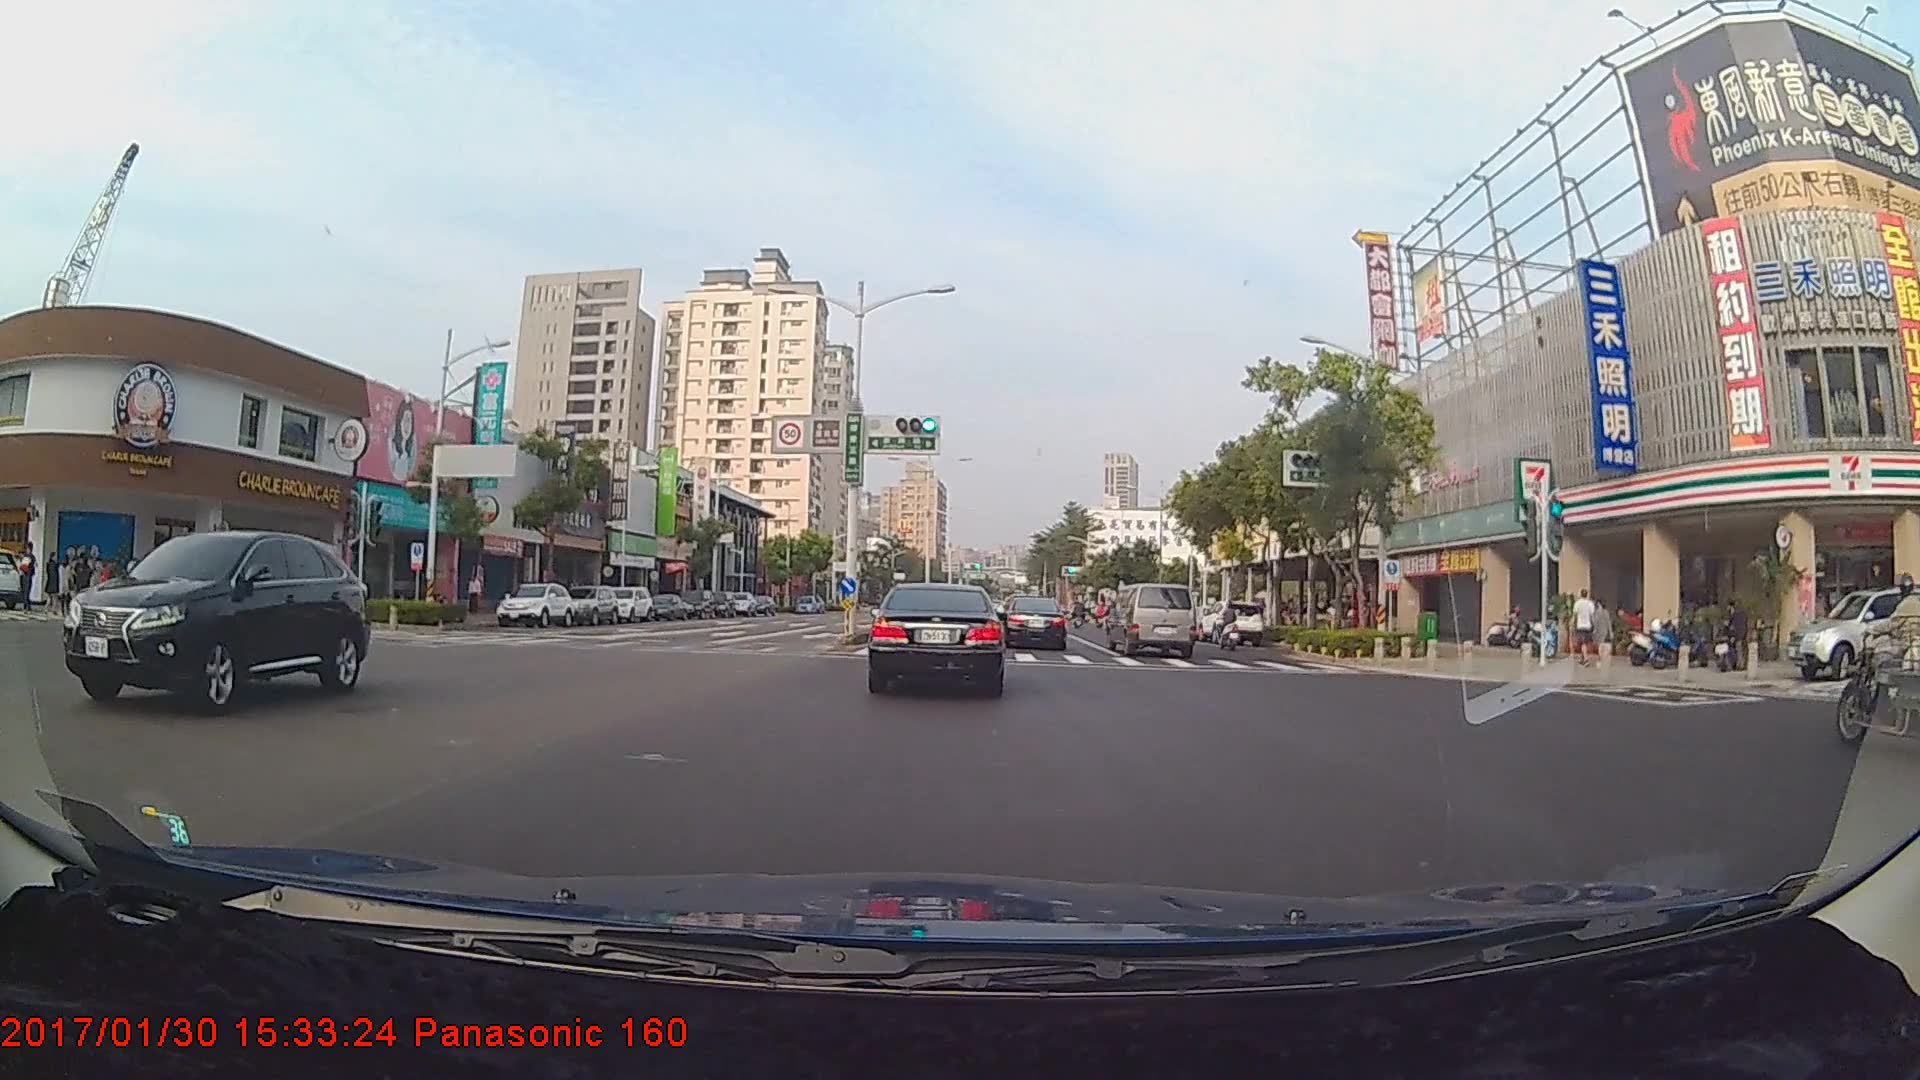pedestrian: (1570, 587, 1597, 662), (1593, 598, 1617, 672), (74, 554, 94, 612), (466, 573, 488, 618)
rider: (1211, 595, 1245, 647)
vehicle: (69, 526, 370, 711), (870, 580, 1004, 696), (1785, 582, 1920, 678), (1109, 583, 1195, 658), (493, 579, 577, 626), (1002, 597, 1069, 653), (1203, 598, 1266, 646), (562, 583, 618, 623), (599, 584, 653, 621), (650, 591, 689, 622)
